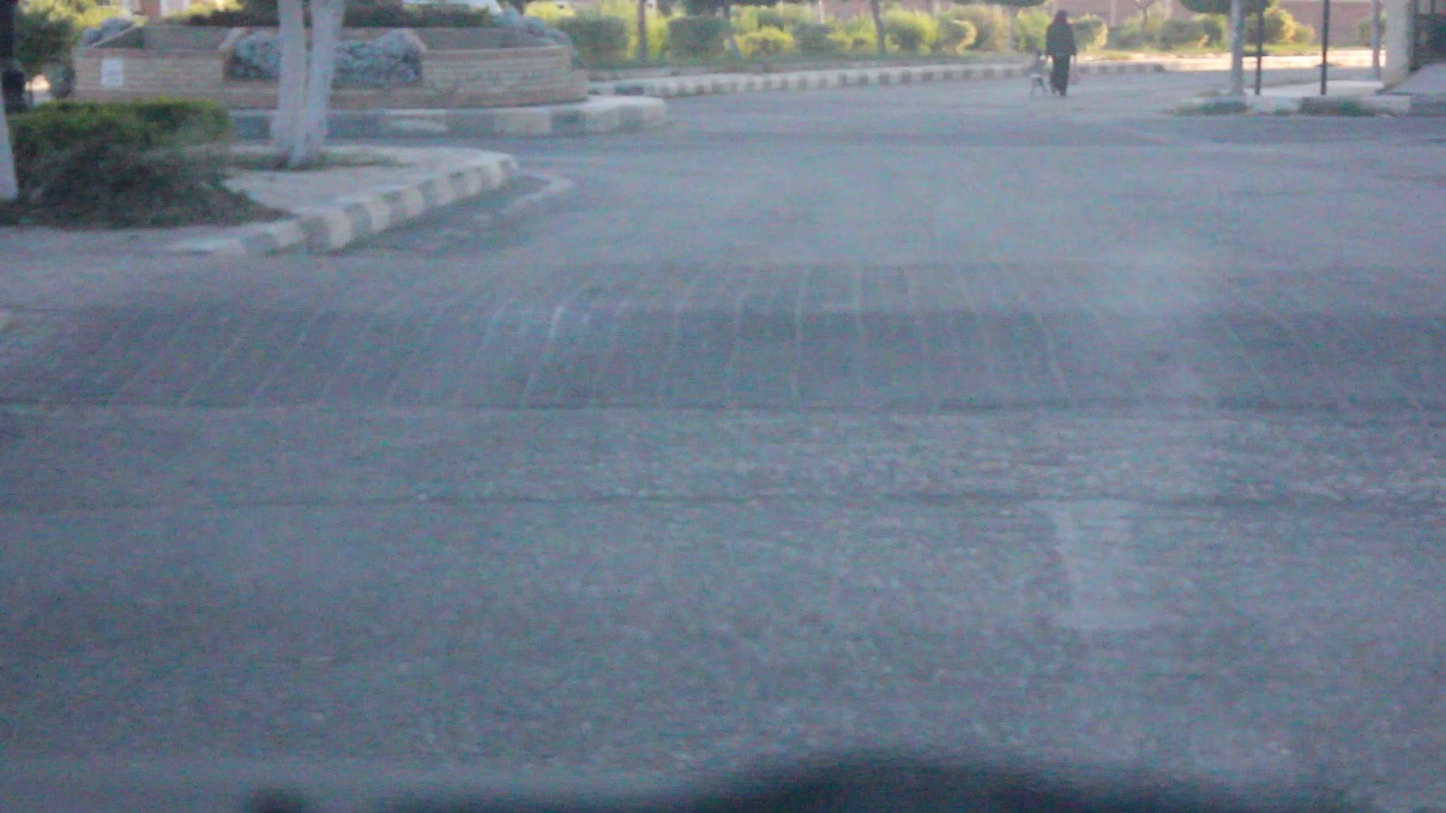Bump: (3, 253, 1445, 413)
